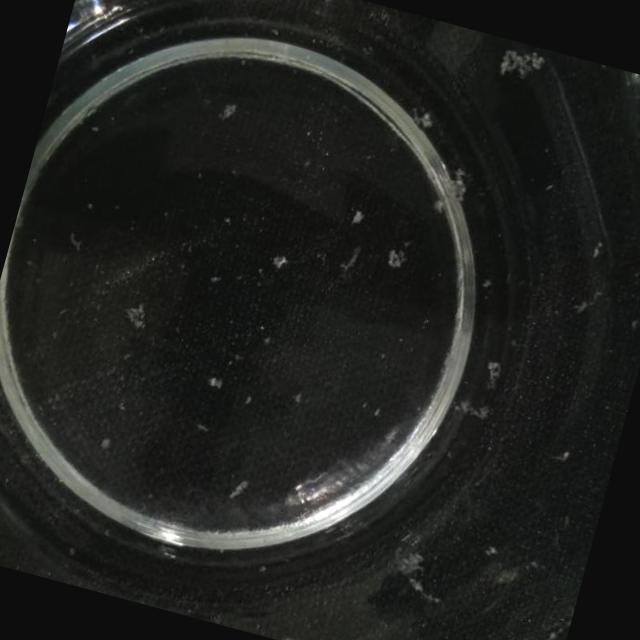fiber: (378, 527, 452, 606), (422, 143, 480, 214), (489, 36, 555, 88), (116, 287, 162, 335), (196, 362, 242, 406), (452, 389, 492, 428), (474, 345, 510, 382), (212, 90, 242, 127), (264, 240, 295, 275), (375, 236, 408, 267), (412, 98, 441, 131), (340, 194, 366, 224), (280, 621, 314, 640)
